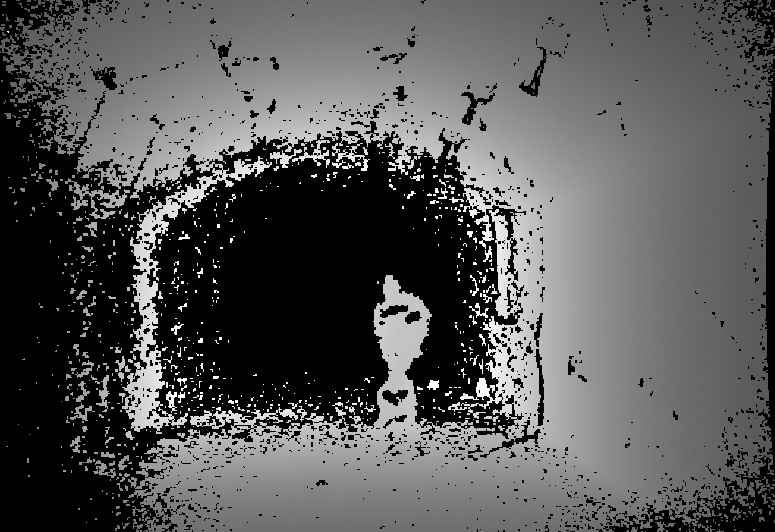person: (372, 275, 432, 430)
